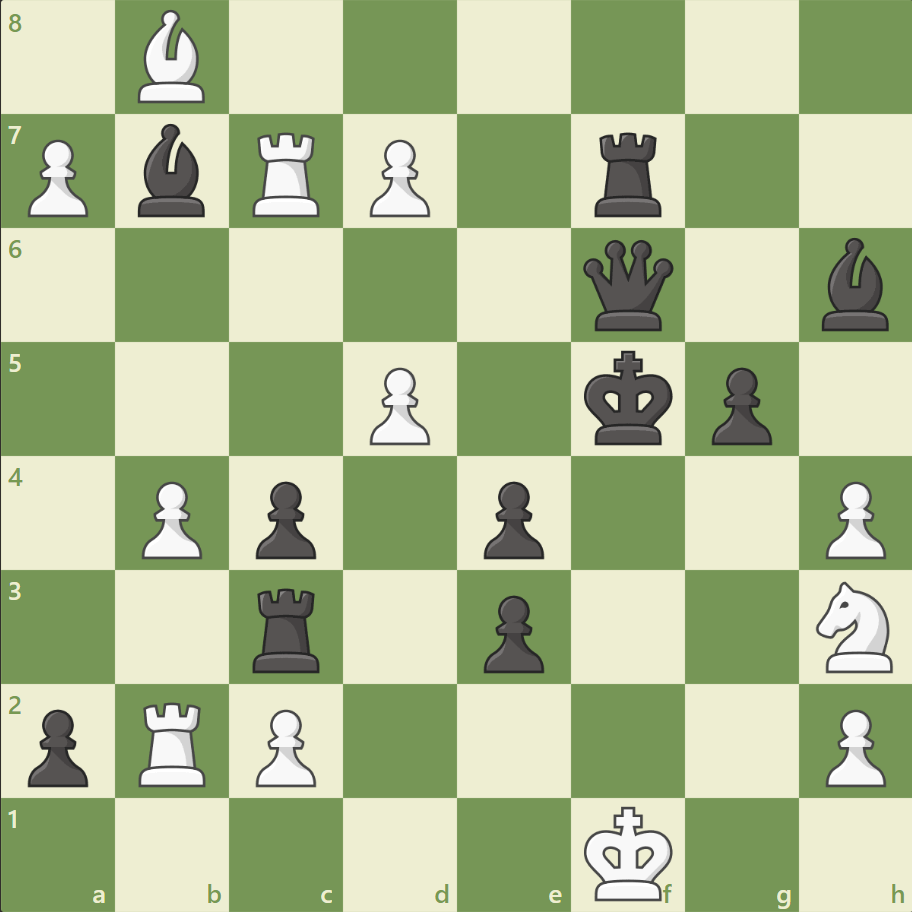B: (131, 6, 215, 109)
K: (579, 798, 679, 906)
N: (806, 575, 903, 677)
P: (20, 132, 95, 223), (133, 473, 208, 564), (247, 700, 322, 791), (361, 132, 435, 223), (361, 359, 435, 450), (815, 473, 889, 564), (815, 700, 889, 791)
R: (246, 125, 329, 222), (133, 693, 215, 790)
b: (812, 233, 896, 336), (131, 120, 215, 222)
k: (579, 344, 679, 452)
p: (701, 359, 776, 450), (247, 473, 322, 564), (474, 473, 549, 564), (474, 586, 549, 677), (20, 700, 95, 791)
q: (578, 236, 677, 335)
r: (587, 125, 670, 222), (246, 579, 329, 676)
